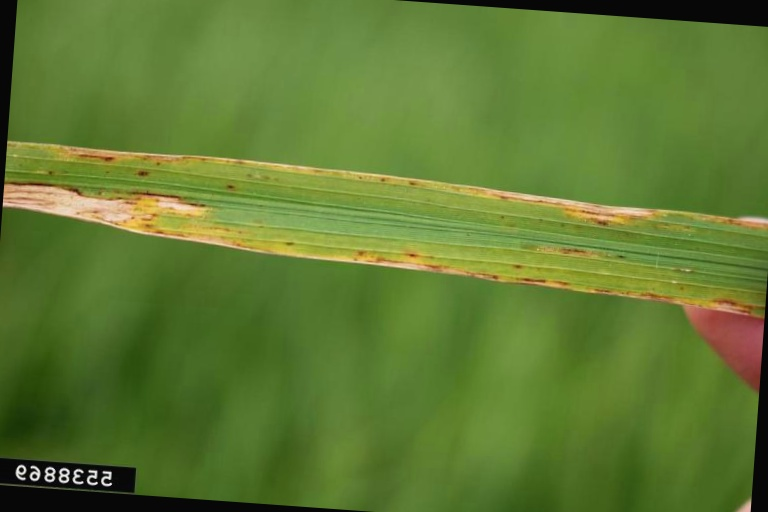Leaf_Blast: (13, 161, 768, 255)
